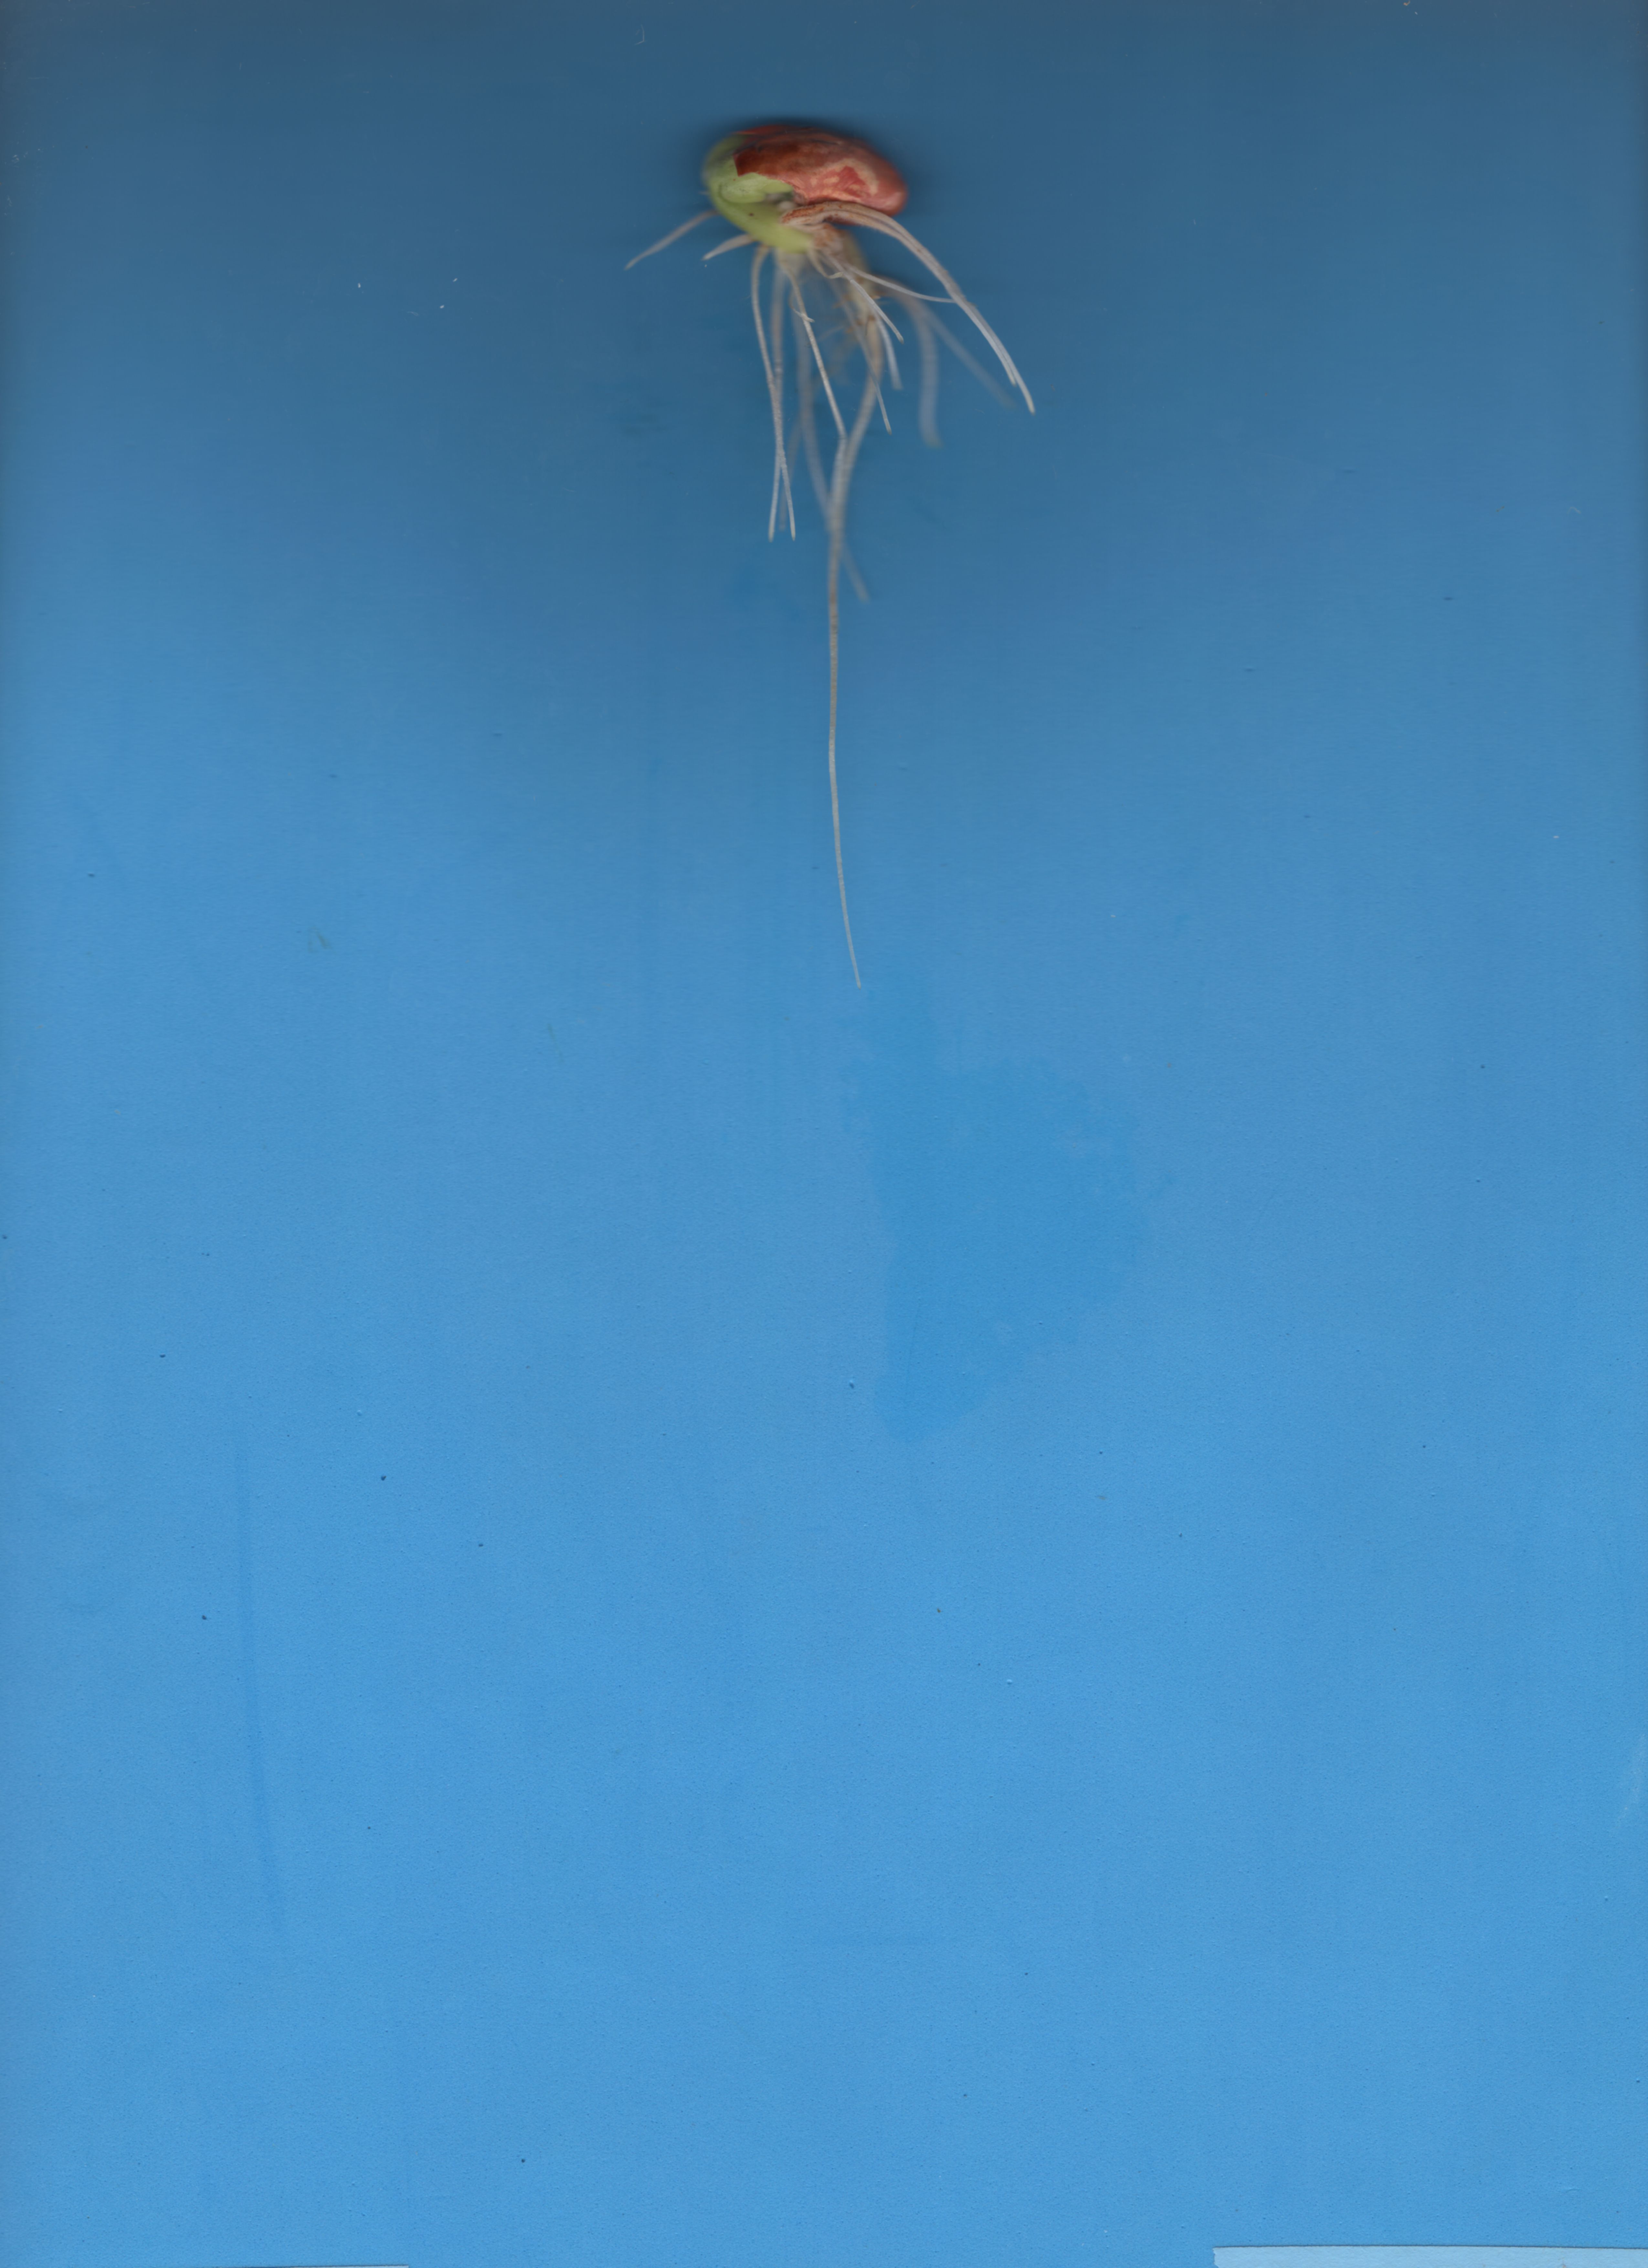ROOTGOOD: (609, 271, 1109, 940)
